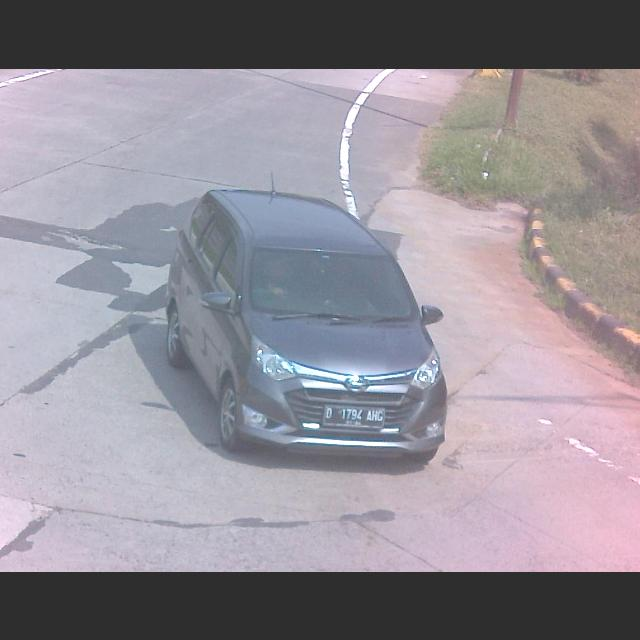plate: (323, 402, 385, 429)
